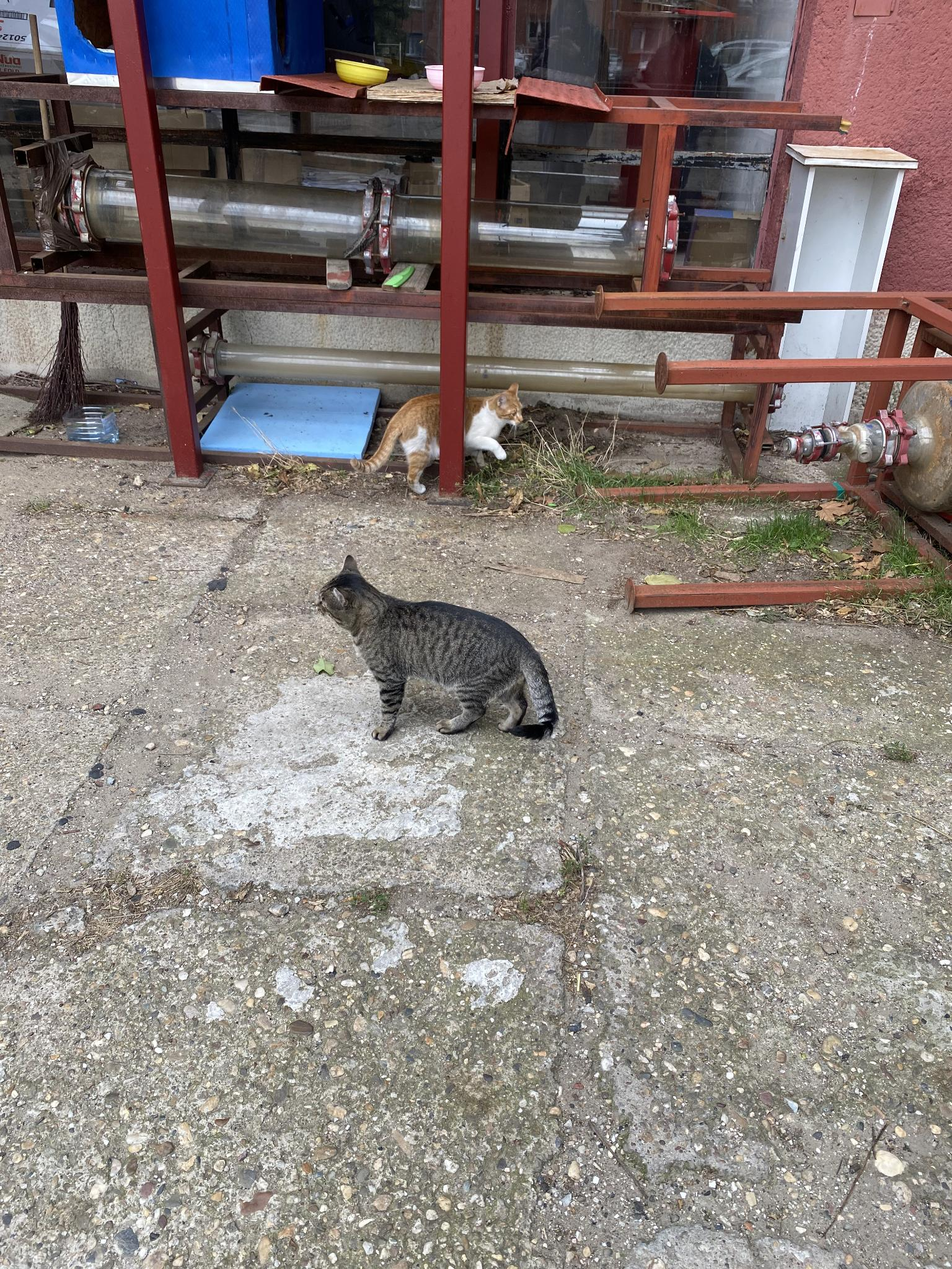macka: (316, 554, 556, 740), (349, 381, 523, 495)
